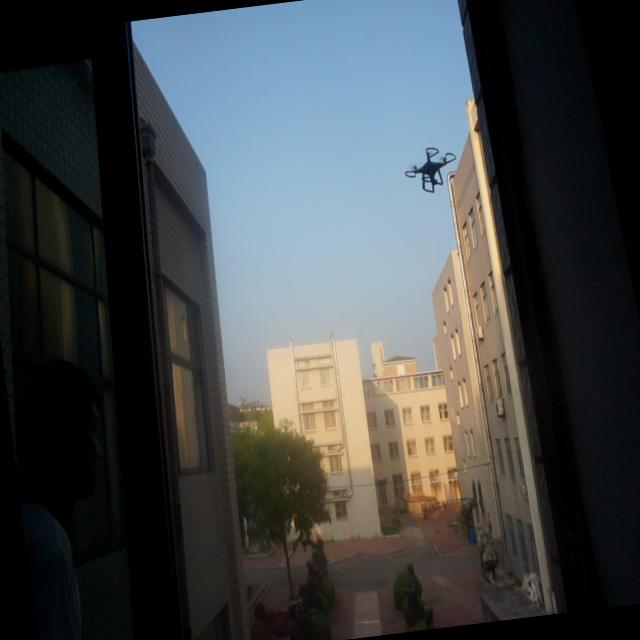drone: (398, 138, 462, 199)
